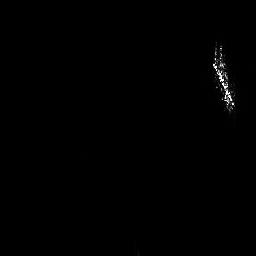ship: (210, 41, 237, 114)
